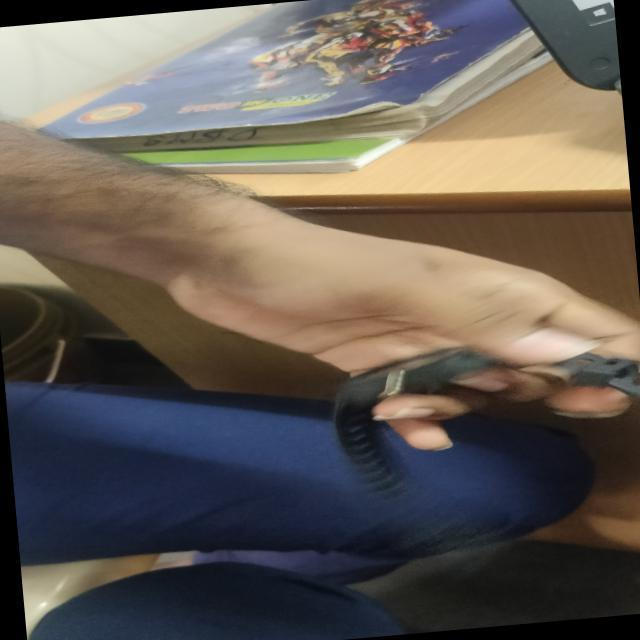Watch: (329, 343, 640, 494)
